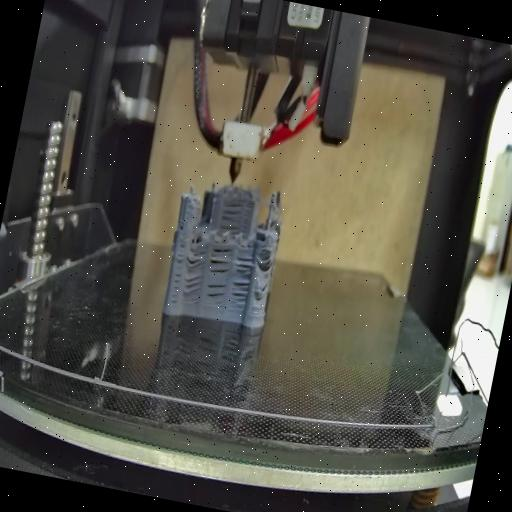cracks: (226, 254, 256, 310), (166, 245, 188, 311), (216, 199, 244, 234), (208, 243, 236, 277), (202, 278, 228, 307), (184, 244, 206, 270), (181, 272, 202, 298), (256, 278, 269, 302), (258, 256, 272, 272), (180, 214, 188, 232)
